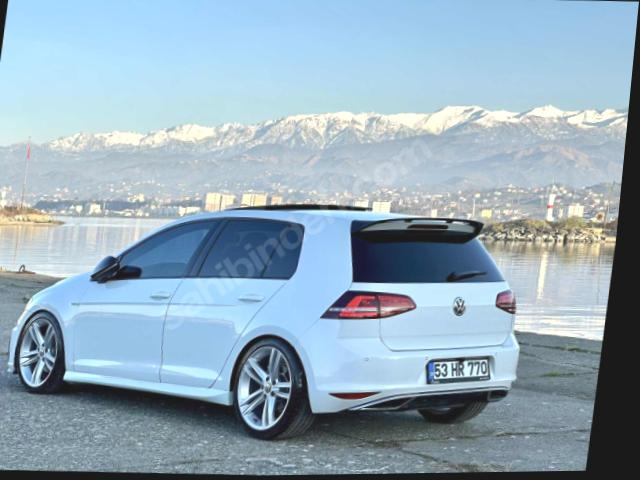plaka: (427, 358, 490, 383)
